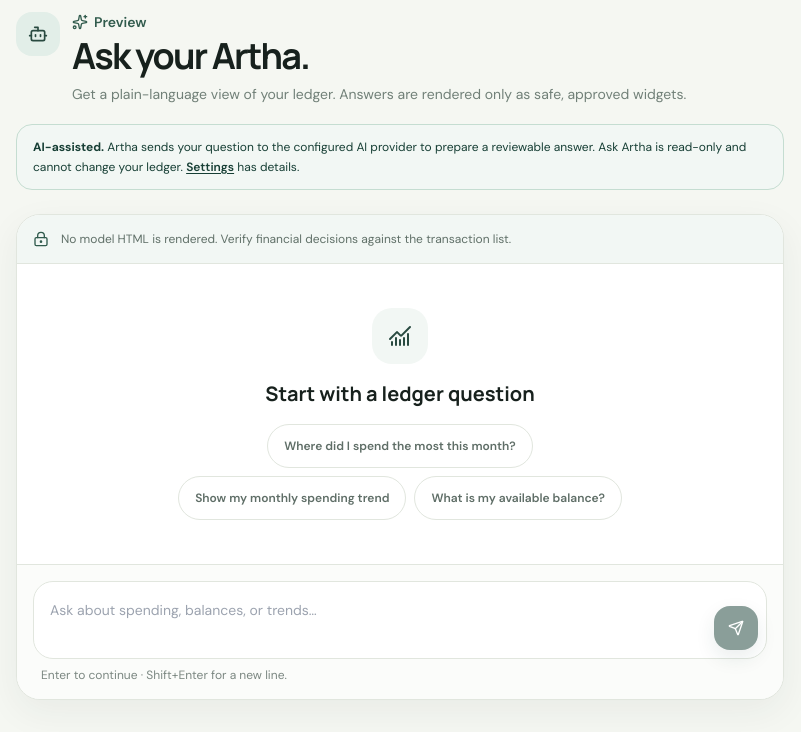
AssistantPage generated UI › restores the exact question after an unavailable response and permits retry without a fake exchange
Type "  Could I cover a ₹12,000 repair today?  " into the text box named "Ask Artha" at (374, 620), box [42, 590, 706, 650]
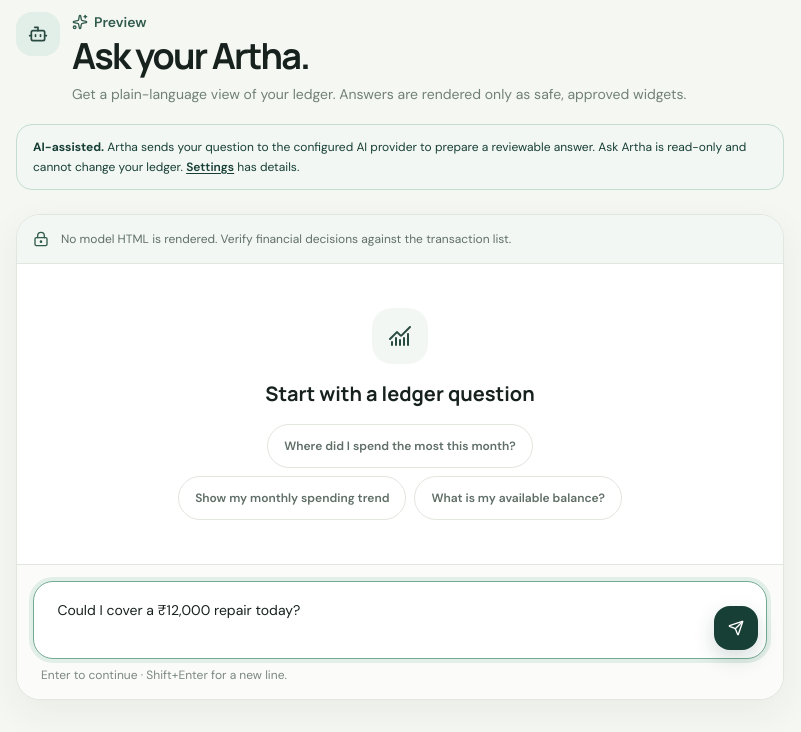
Click the button named "Send question" at (736, 628), box [714, 606, 758, 650]
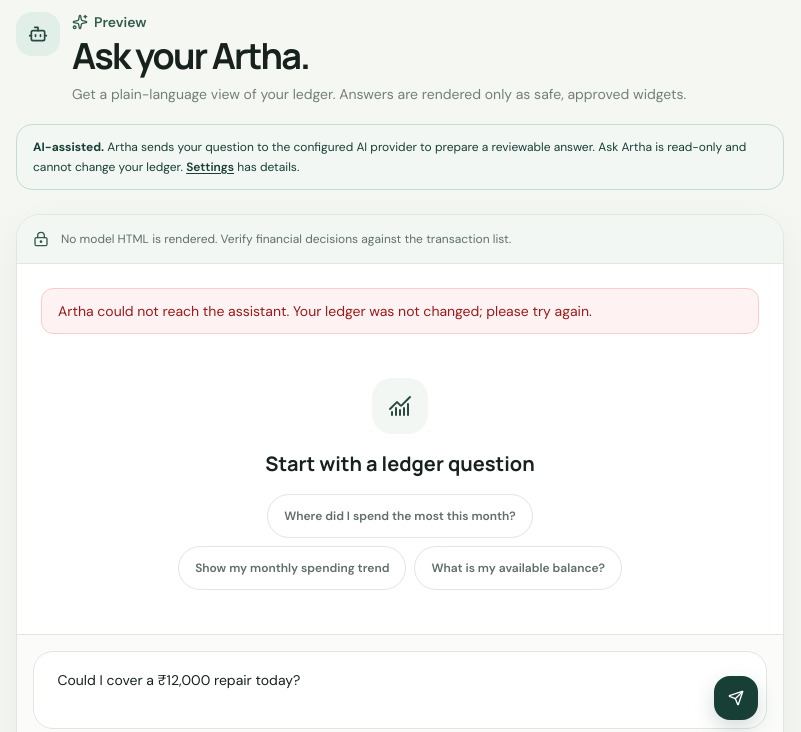
Check: the text "AI response" is not shown
Check: the message shows "Artha could not reach the assistant. Your ledger was not changed; please try again.", box [58, 302, 592, 320]
Click the button named "Send question" at (736, 698), box [714, 676, 758, 720]
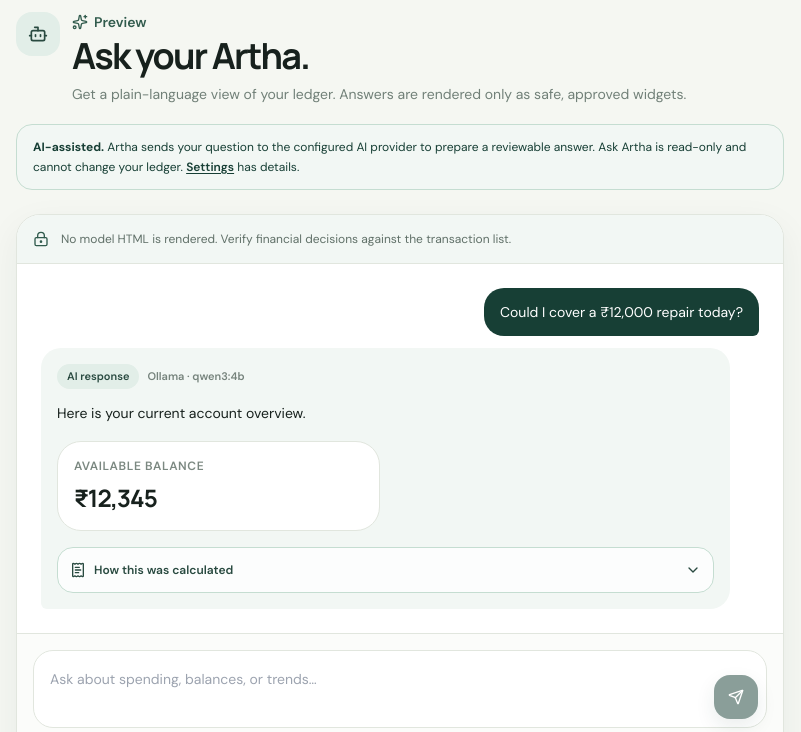
Check: the text "Here is your current account overview." is shown, box [57, 404, 306, 422]
Check: the message is gone
